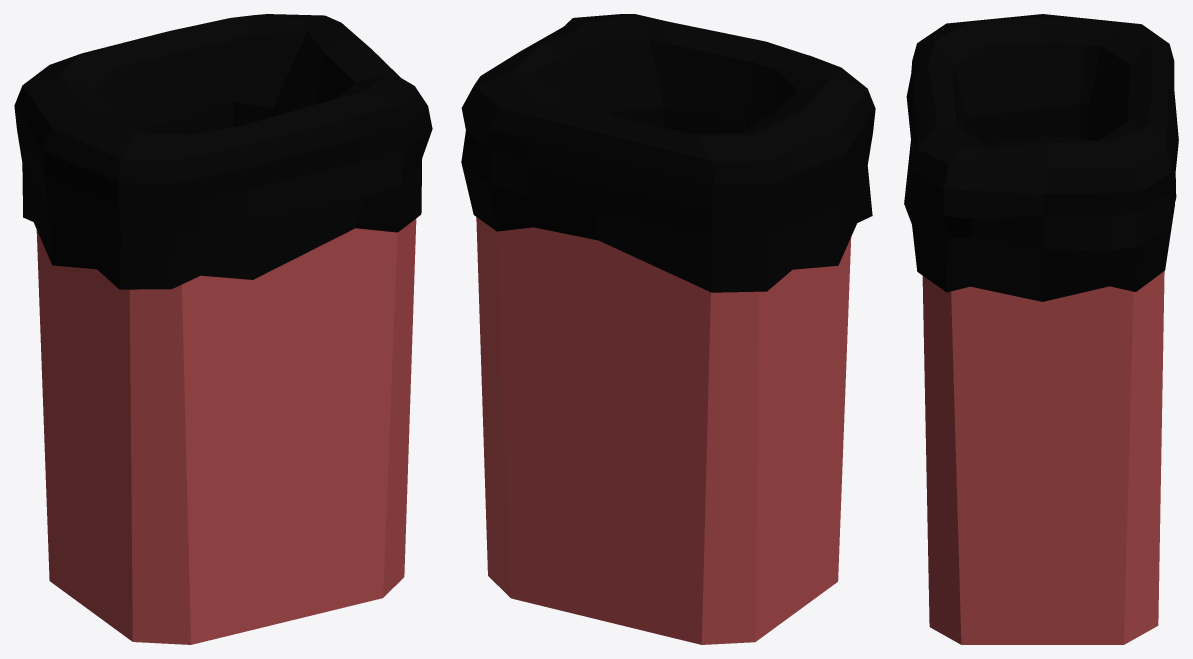
Rendered from C_Garbage.fbx.
3 renders of one model, left to right at view 1: azimuth 30°, elevation 25°; view 2: azimuth 150°, elevation 25°; view 3: azimuth 270°, elevation 25°, orthographic. The views are drawn at different scales.
Parts seen in each view (by area): view 1: C_Garbage; view 2: C_Garbage; view 3: C_Garbage.
Boxes of the visible parts, x1,y1,x2,y2 form: C_Garbage: (14, 14, 432, 644); C_Garbage: (461, 14, 875, 644); C_Garbage: (904, 14, 1178, 644).
Bounding box in the file's own units: 394 × 277 × 550.
